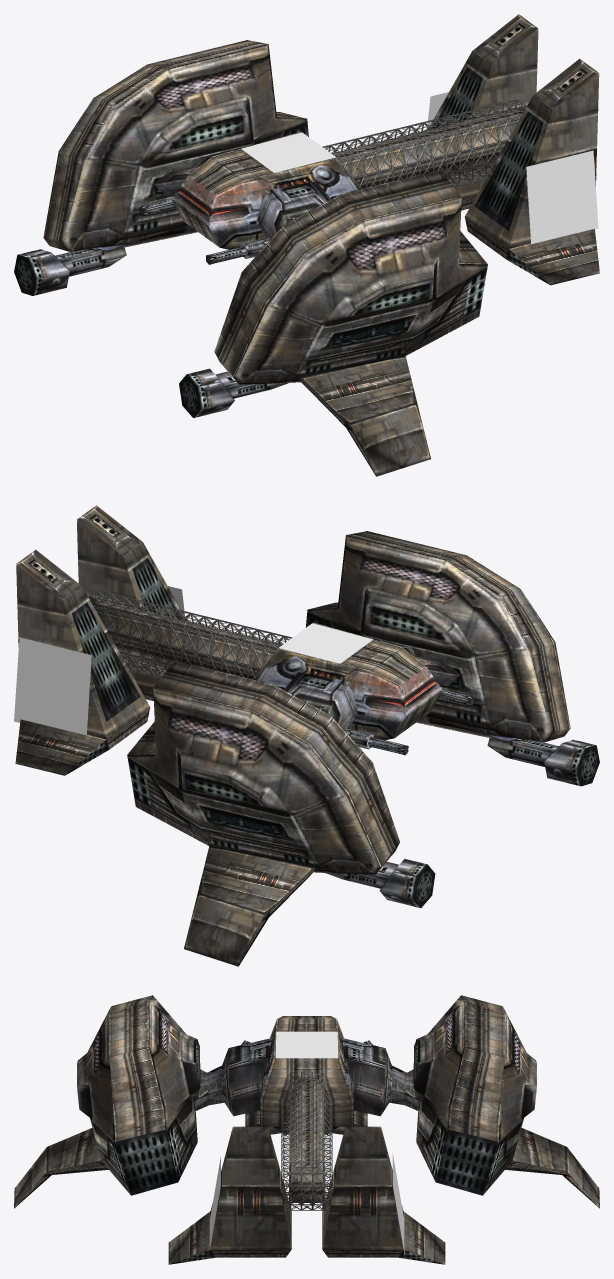
File: pvs08.obj
3 views of the same model, one above another, from view 1: azimuth 30°, elevation 25°; view 2: azimuth 150°, elevation 25°; view 3: azimuth 270°, elevation 25° (orthographic). The views are drawn at different scales.
Visible parts, largest first — view 1: CANON000, DECAL000.002, DECAL010; view 2: CANON000, DECAL000.002, DECAL010; view 3: CANON000, DECAL010, DECAL000.002.
Boxes of the visible parts, x1,y1,x2,y2 form: CANON000: (14,14,599,476); DECAL000.002: (427,92,598,244); DECAL010: (241,132,335,172); CANON000: (15,505,599,966); DECAL000.002: (14,586,184,735); DECAL010: (279,623,372,663); CANON000: (14,995,599,1264); DECAL010: (275,1031,338,1058); DECAL000.002: (209,1153,404,1255).
Bounding box in the file's own units: 444 × 220 × 542.
Materials: 9 (9 with a texture image).
